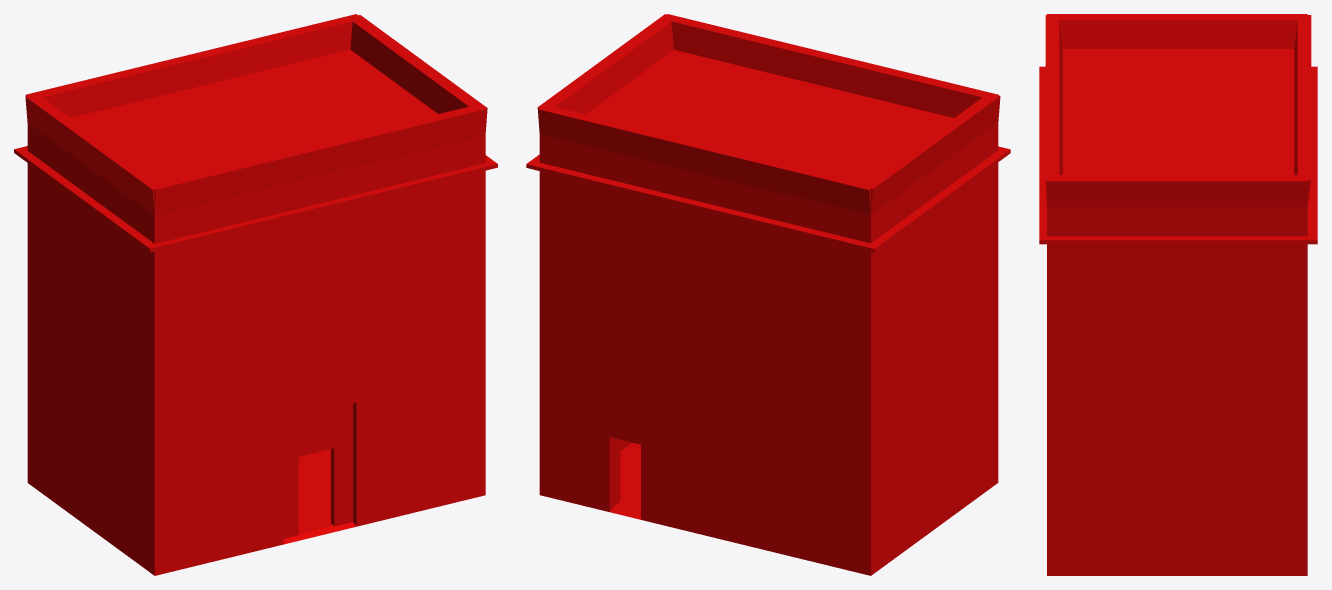
File: SM_Bld_Shop_Large_02_Collision.fbx
The picture shows the model from 3 angles, left to right: view 1: azimuth 30°, elevation 25°; view 2: azimuth 150°, elevation 25°; view 3: azimuth 270°, elevation 25°; orthographic projection. The views are drawn at different scales.
Parts seen in each view (by area): view 1: SM_Bld_Shop_Large_02_Collision; view 2: SM_Bld_Shop_Large_02_Collision; view 3: SM_Bld_Shop_Large_02_Collision.
Boxes of the visible parts, box(x1,y1,x2,y2) form: SM_Bld_Shop_Large_02_Collision: box(14, 14, 497, 575); SM_Bld_Shop_Large_02_Collision: box(526, 14, 1010, 575); SM_Bld_Shop_Large_02_Collision: box(1039, 14, 1317, 575).
Size of the model in its own units: 1154 by 1226 by 781.
